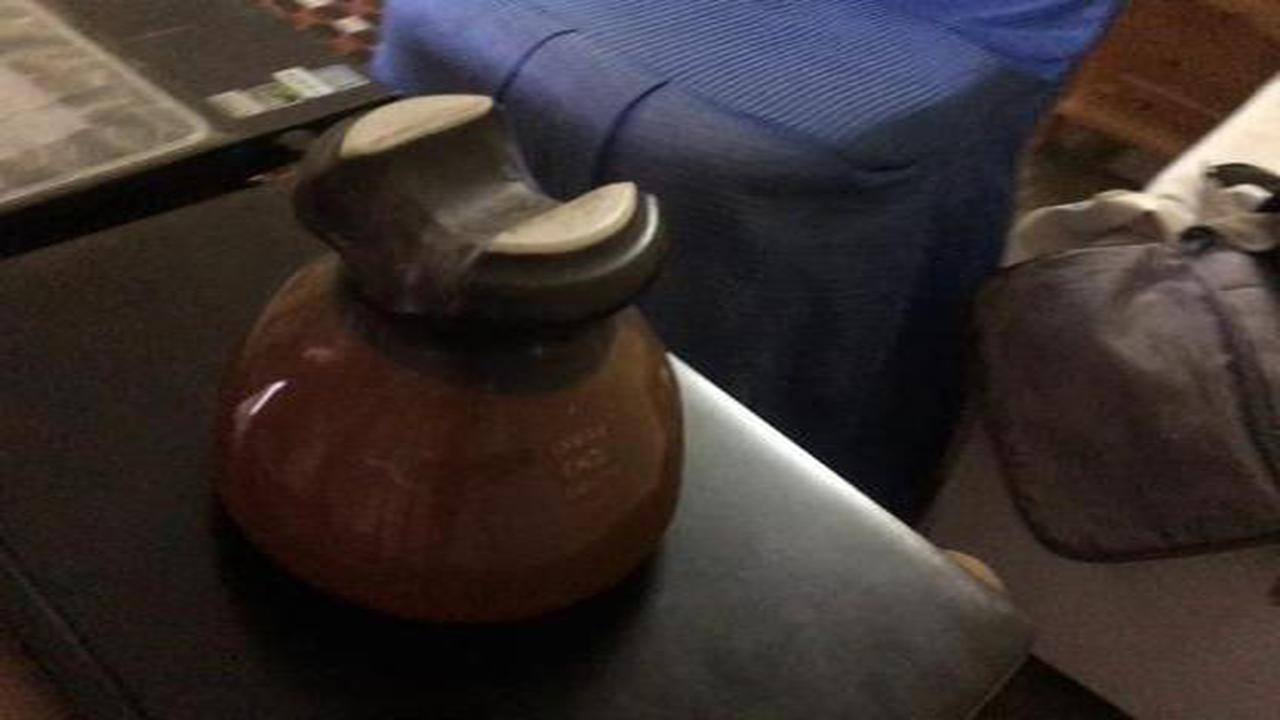insulator_pin: (204, 68, 724, 651)
